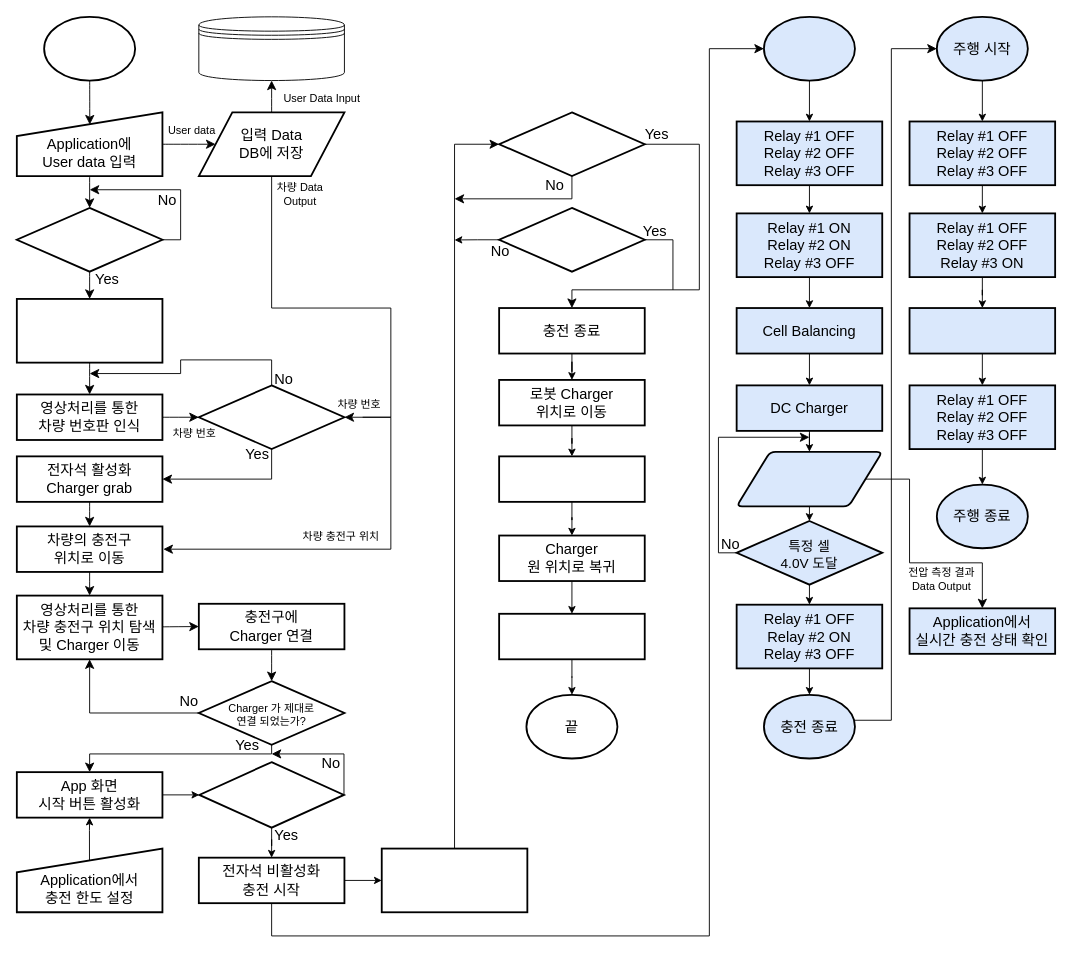
Image size: 1071x961. Some labels were removed from this diagram. Here are the shapes that lost their labels. From the top down, the box of each, then its label:
(43, 15, 136, 81): 시작
(198, 16, 344, 81): Data Base
(763, 15, 855, 81): 충전 시작
(498, 111, 645, 177): 설정 한도까지 충전 되었는가?
(15, 207, 163, 272): 차량 진입 센서 인식
(498, 207, 645, 272): User가 충전 중단 버튼을 눌렀는가?
(15, 298, 163, 363): 해당 주차장의 차량 번호판 위치로 로봇 이동
(908, 307, 1056, 354): DC 48V Out
(197, 384, 345, 450): DB에 해당 차량이 존재하는지 검증
(498, 455, 645, 502): 전자석 활성화 Charger grab 및 분리
(735, 450, 883, 507): 각 셀 전압 측정
(498, 612, 645, 660): 로봇 초기 위치로 복귀
(198, 761, 344, 828): User가 App에서 충전 시작 버튼을 눌렀는가?
(380, 847, 528, 913): Charger 분리 로봇 초기 위치로 이동 및 대기
